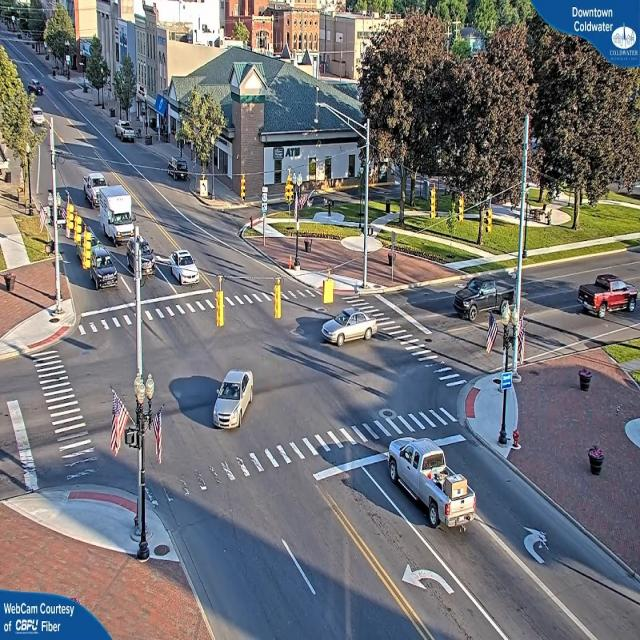car: (384, 439, 476, 537), (453, 276, 520, 326), (578, 274, 635, 317), (212, 371, 252, 432), (322, 309, 375, 345), (92, 244, 118, 292), (128, 236, 158, 276), (167, 250, 200, 286), (165, 157, 189, 180), (116, 123, 136, 143)
truck: (91, 180, 138, 244)
